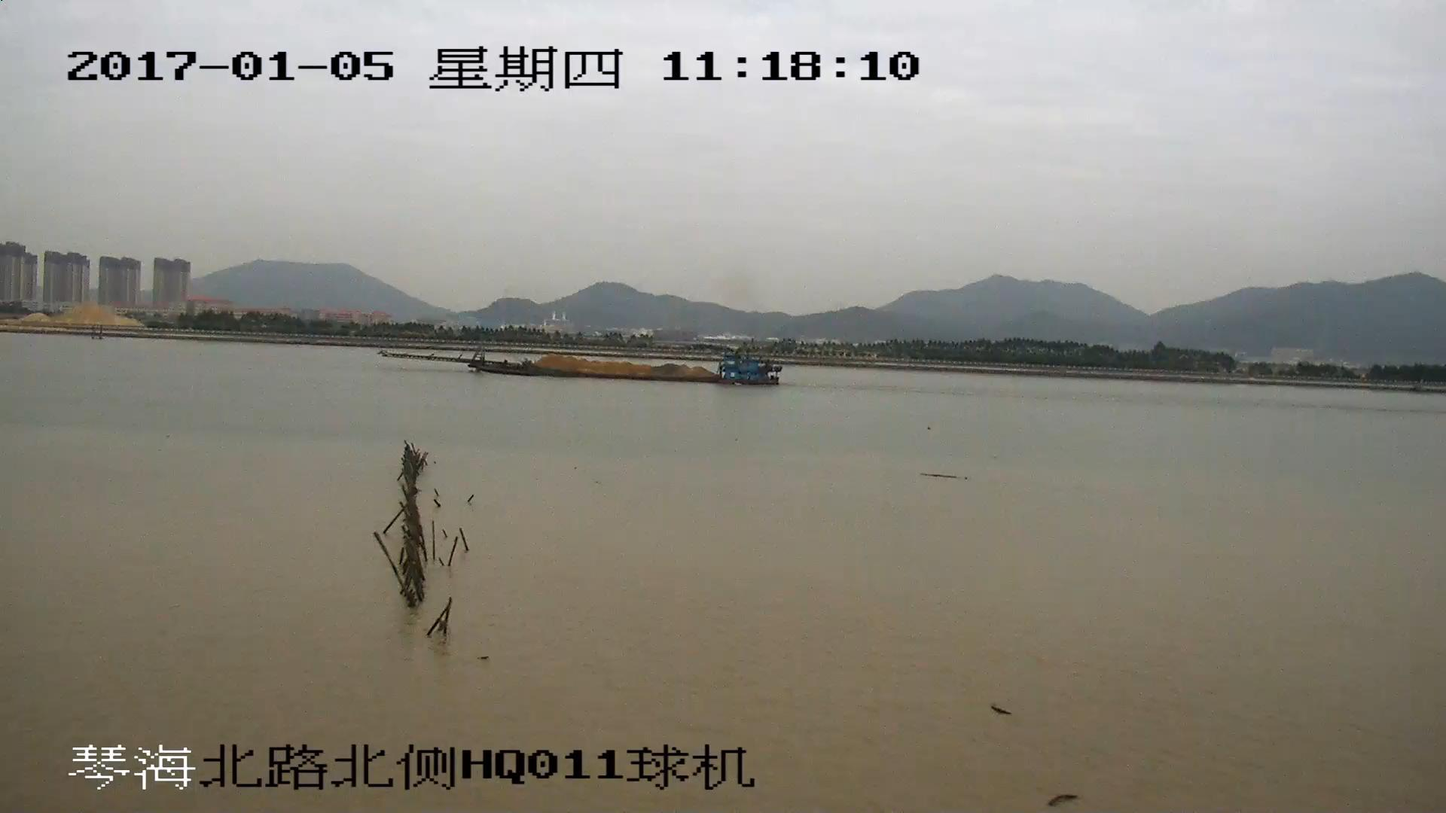ore carrier: (386, 332, 773, 383)
